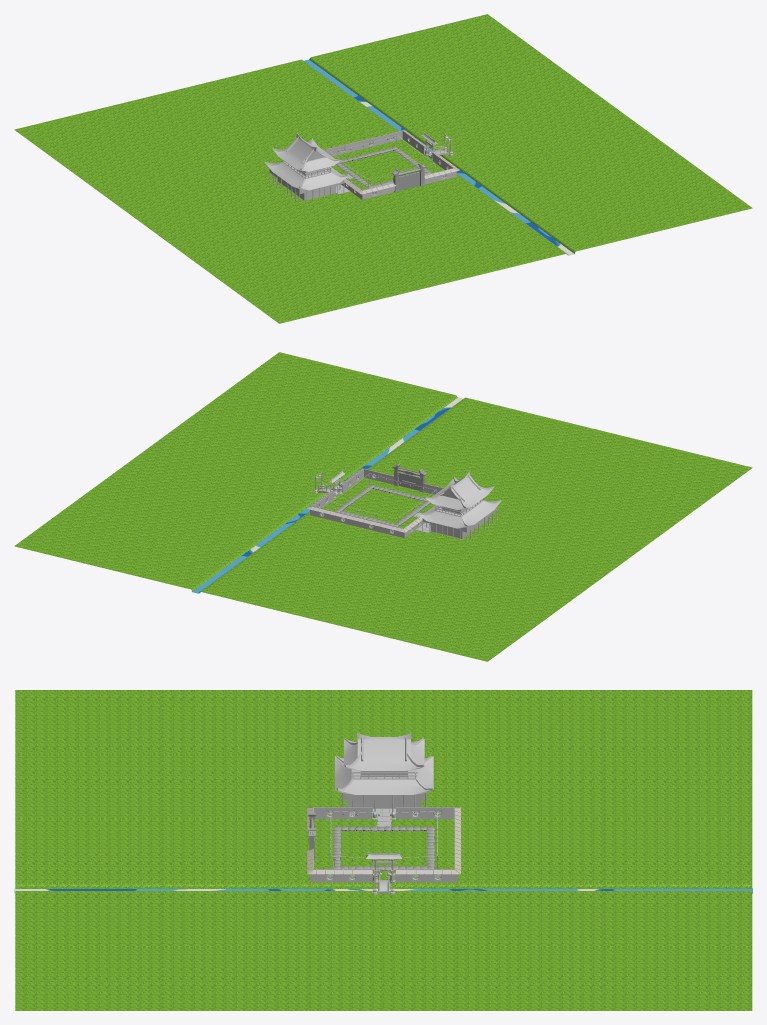
Rendered from SM_Arena_Frame_01.fbx.
3 views of the same model, one above another, from view 1: azimuth 30°, elevation 25°; view 2: azimuth 150°, elevation 25°; view 3: azimuth 270°, elevation 25° (orthographic). The views are drawn at different scales.
Visible parts, largest first — view 1: SM_Ext_Floor_01, SM_Temple_01, SM_River_01, SM_wall_01, SM_Arena_Border_01, SM_Gate_01, SM_Wall_02; view 2: SM_Ext_Floor_01, SM_Temple_01, SM_River_01, SM_Arena_Border_01, SM_wall_01, SM_Roof_01, SM_Gate_01, SM_Wall_02; view 3: SM_Ext_Floor_01, SM_Temple_01, SM_River_01, SM_Arena_Border_01, SM_Wall_02, SM_wall_01, SM_Roof_01, SM_Roof_02.
Boxes of the visible parts, left/top/right/bottom form: SM_Ext_Floor_01: left=14, top=14, right=752, bottom=323; SM_Temple_01: left=265, top=133, right=348, bottom=203; SM_River_01: left=304, top=59, right=575, bottom=255; SM_wall_01: left=325, top=132, right=425, bottom=156; SM_Arena_Border_01: left=336, top=147, right=430, bottom=188; SM_Gate_01: left=391, top=163, right=426, bottom=192; SM_Wall_02: left=341, top=154, right=456, bottom=199; SM_Ext_Floor_01: left=14, top=352, right=752, bottom=661; SM_Temple_01: left=418, top=471, right=501, bottom=541; SM_River_01: left=191, top=397, right=462, bottom=593; SM_Arena_Border_01: left=335, top=485, right=430, bottom=526; SM_wall_01: left=310, top=492, right=425, bottom=537; SM_Roof_01: left=307, top=490, right=422, bottom=532; SM_Gate_01: left=392, top=463, right=426, bottom=492; SM_Wall_02: left=340, top=470, right=441, bottom=494; SM_Ext_Floor_01: left=15, top=690, right=752, bottom=1010; SM_Temple_01: left=335, top=733, right=433, bottom=812; SM_River_01: left=14, top=888, right=752, bottom=893; SM_Arena_Border_01: left=333, top=826, right=434, bottom=870; SM_Wall_02: left=310, top=809, right=372, bottom=882; SM_wall_01: left=396, top=809, right=457, bottom=882; SM_Roof_01: left=395, top=807, right=461, bottom=874; SM_Roof_02: left=307, top=807, right=372, bottom=874.
Bounding box in the file's own units: 10550 × 1054 × 10265.
